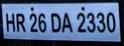0: (105, 11, 116, 32)
2: (74, 11, 87, 33), (28, 12, 38, 32)
3: (94, 10, 106, 32), (85, 11, 96, 33)
6: (37, 12, 47, 33)
A: (61, 11, 73, 32)
D: (49, 11, 61, 33)
H: (4, 11, 15, 32)
R: (14, 12, 26, 32)
